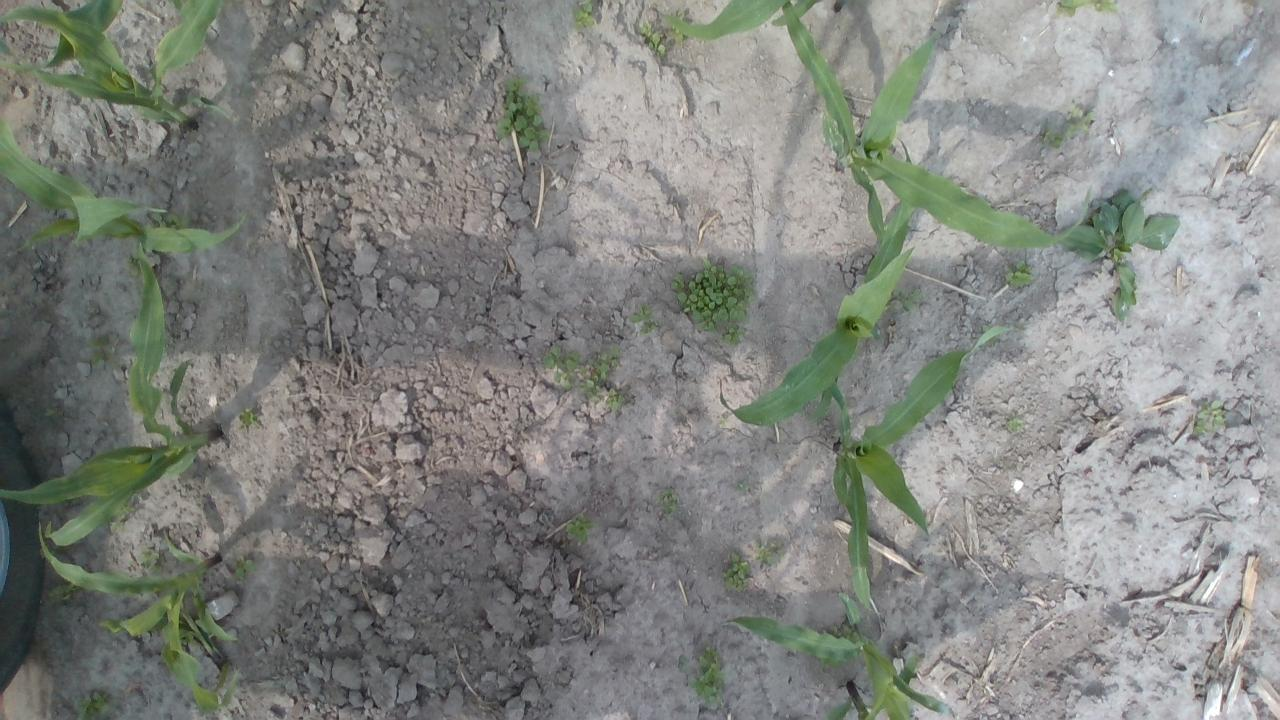Maize: (778, 0, 1093, 253), (2, 243, 225, 549), (826, 320, 1032, 615), (718, 200, 924, 428), (35, 524, 244, 718), (0, 121, 250, 254), (0, 1, 227, 130), (719, 613, 961, 720), (664, 0, 851, 45)
Weeds: (1064, 188, 1184, 322), (672, 260, 760, 344), (546, 342, 634, 411), (500, 76, 548, 160), (678, 646, 723, 704), (1046, 103, 1088, 148), (72, 688, 117, 720), (642, 17, 684, 50), (1194, 399, 1224, 436), (888, 289, 925, 315), (88, 334, 115, 368), (1060, 2, 1118, 16), (1003, 260, 1034, 286), (752, 544, 781, 568), (727, 560, 749, 590), (635, 304, 659, 330), (574, 1, 596, 28), (660, 489, 679, 520), (238, 407, 264, 428), (232, 558, 256, 580), (568, 520, 588, 540), (1007, 417, 1021, 431)
